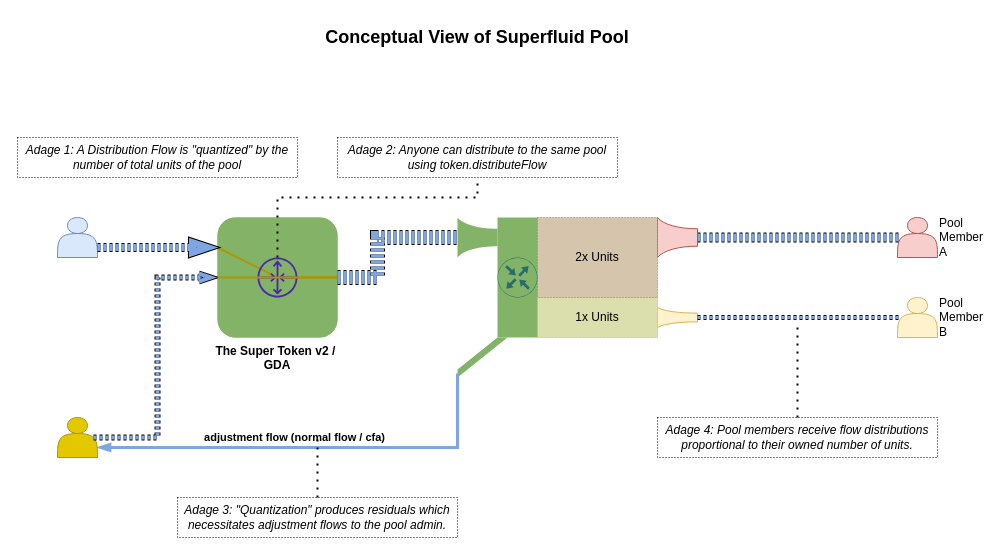
The diagram is 1001 pixels wide and 555 high, and some of its shapes have lost their labels. Each missing label, with the box of its shape:
A Superfluid Pool: (497, 217, 657, 337)
Alice, The Pool Admin: (56, 416, 98, 458)
Bob, A Pool Distributor: (56, 216, 98, 258)
